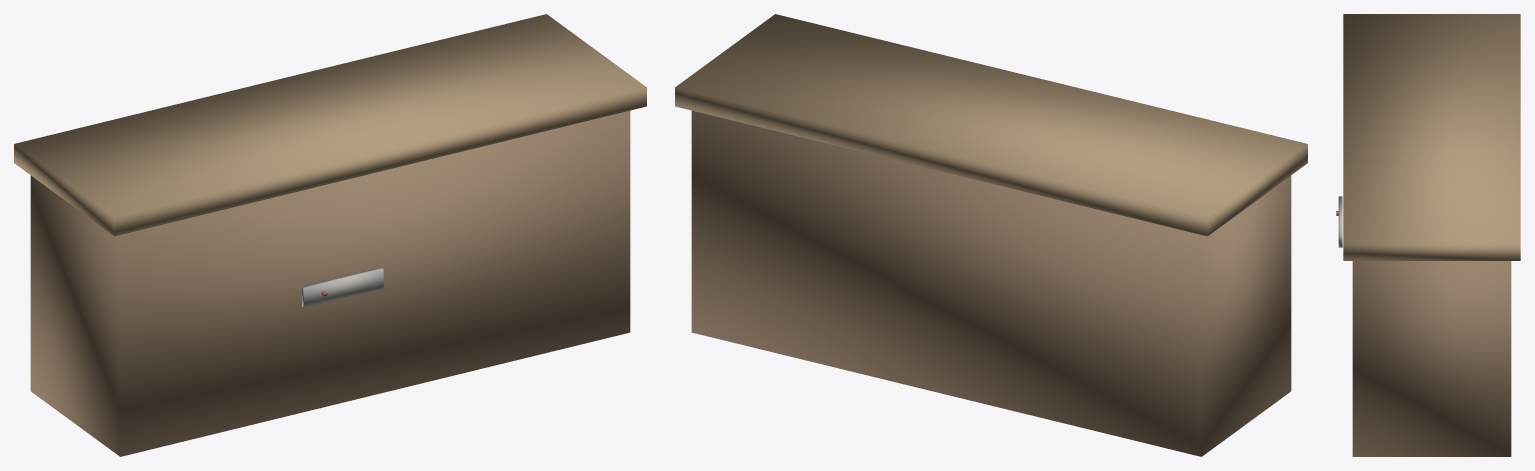
The model's file is bagging_stand__wide.glb.
3 views of the same model, side by side, from view 1: azimuth 30°, elevation 25°; view 2: azimuth 150°, elevation 25°; view 3: azimuth 270°, elevation 25° (orthographic). The views are drawn at different scales.
Visible parts, largest first — view 1: world; view 2: world; view 3: world.
Boxes of the visible parts, x1=… form: world: x1=14, y1=14, x2=646, y2=456; world: x1=675, y1=14, x2=1307, y2=456; world: x1=1336, y1=14, x2=1520, y2=456.
Size of the model in its own units: 2.33 by 1.03 by 0.791.
